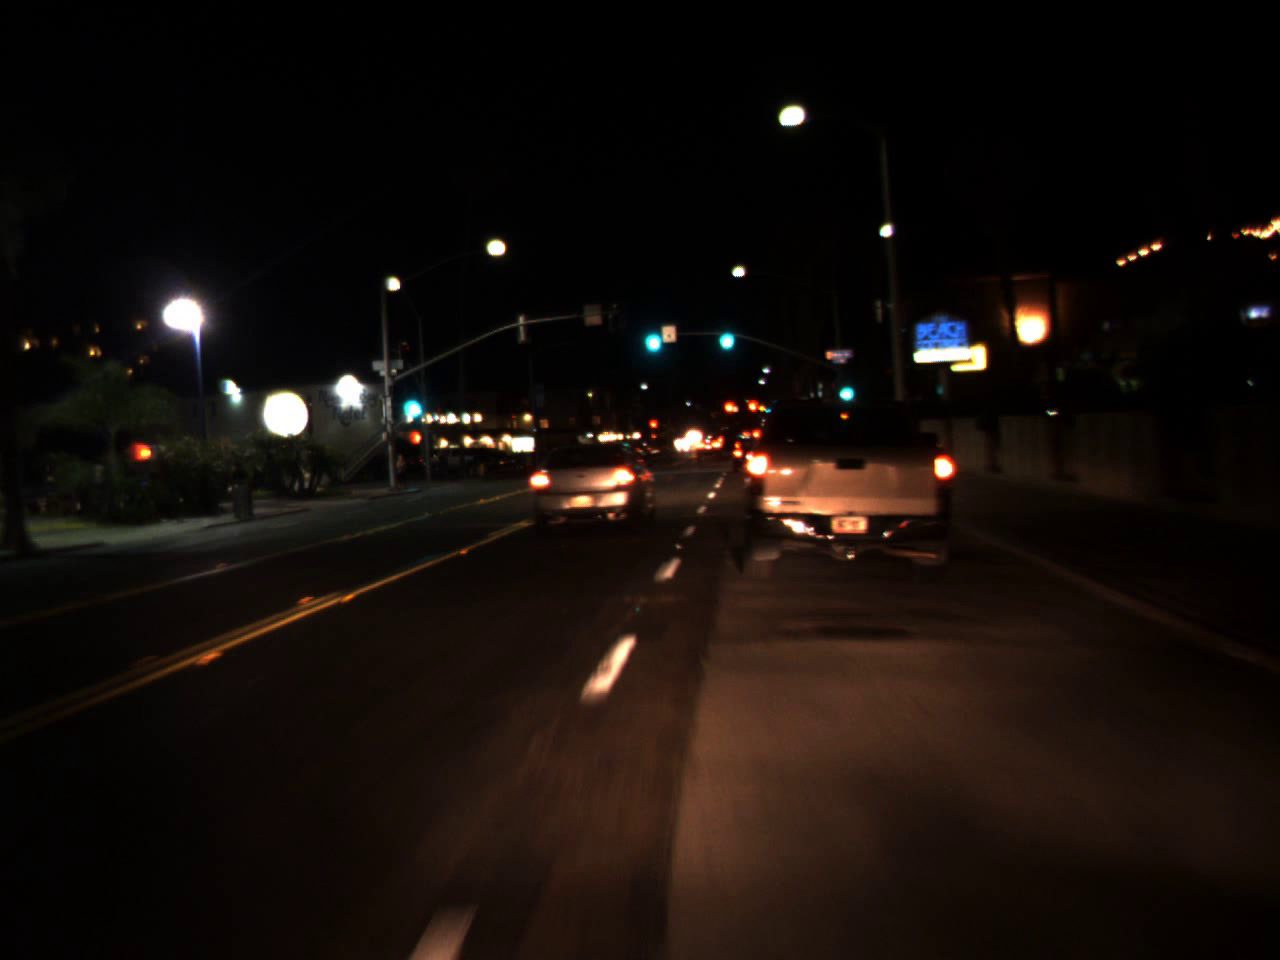go: (395, 377, 427, 425), (638, 311, 665, 359), (713, 311, 738, 356), (833, 370, 856, 406)
